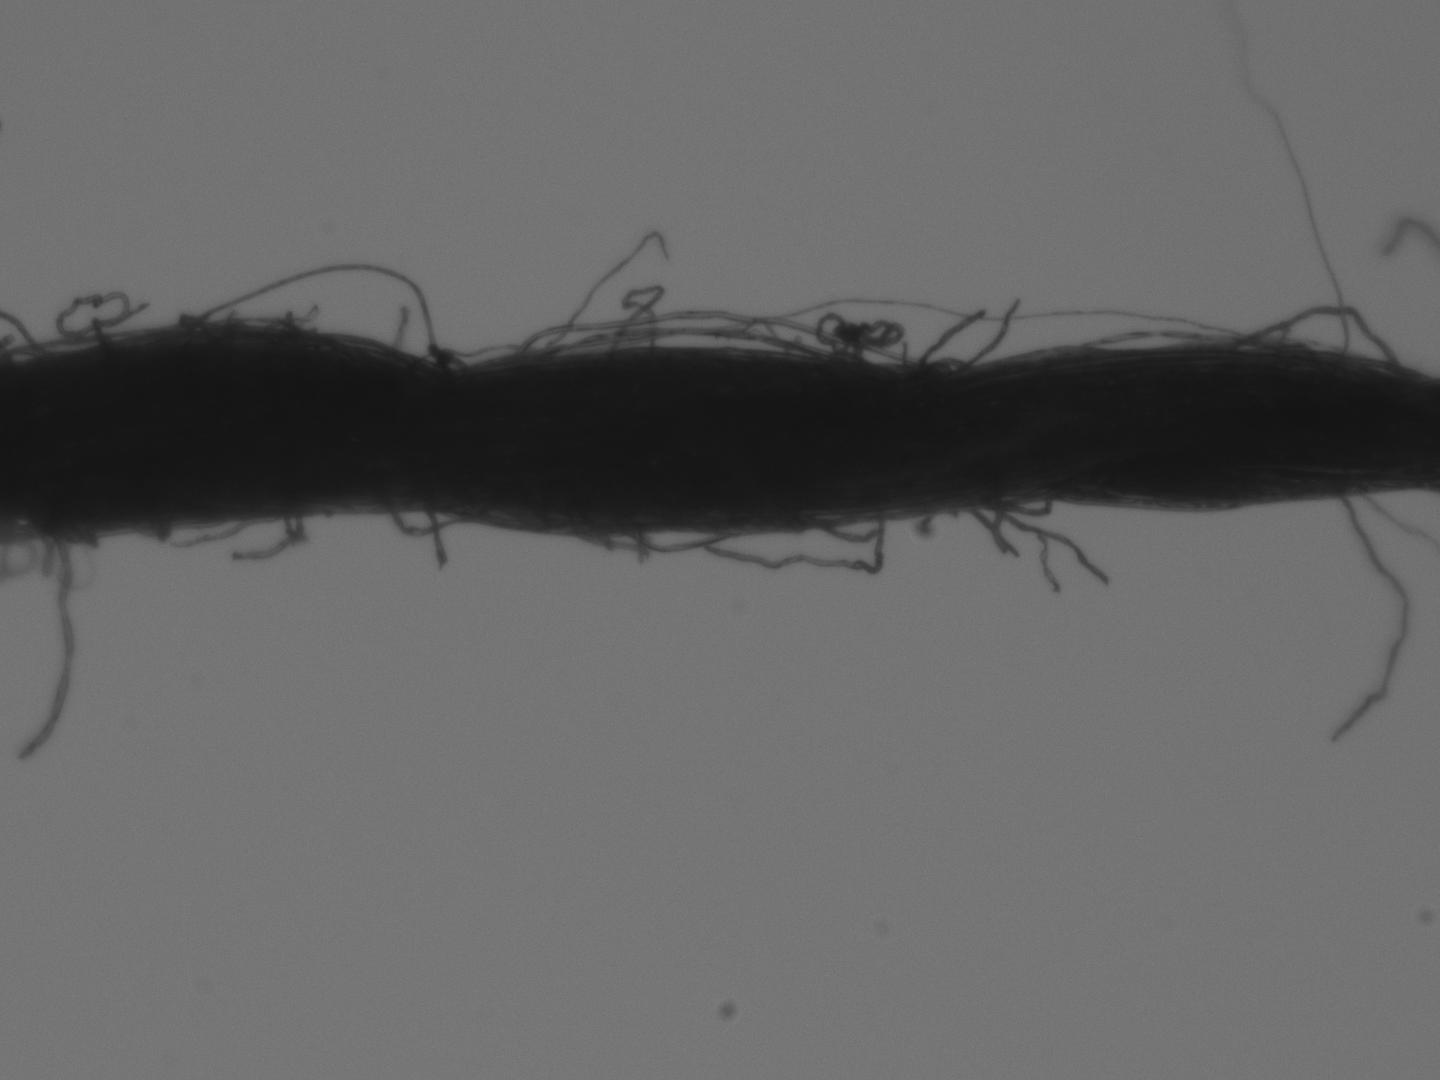loop_fiber: (175, 264, 461, 365), (520, 309, 907, 365), (1222, 298, 1403, 366), (541, 328, 818, 360), (1059, 326, 1251, 357), (813, 307, 906, 362), (608, 286, 668, 355), (613, 521, 736, 551), (388, 501, 481, 535), (426, 340, 533, 369), (992, 499, 1048, 514)
protruding_fiber: (1323, 500, 1412, 741), (16, 538, 78, 765), (954, 294, 1025, 371), (915, 304, 990, 366), (422, 506, 451, 574), (384, 311, 413, 353)
